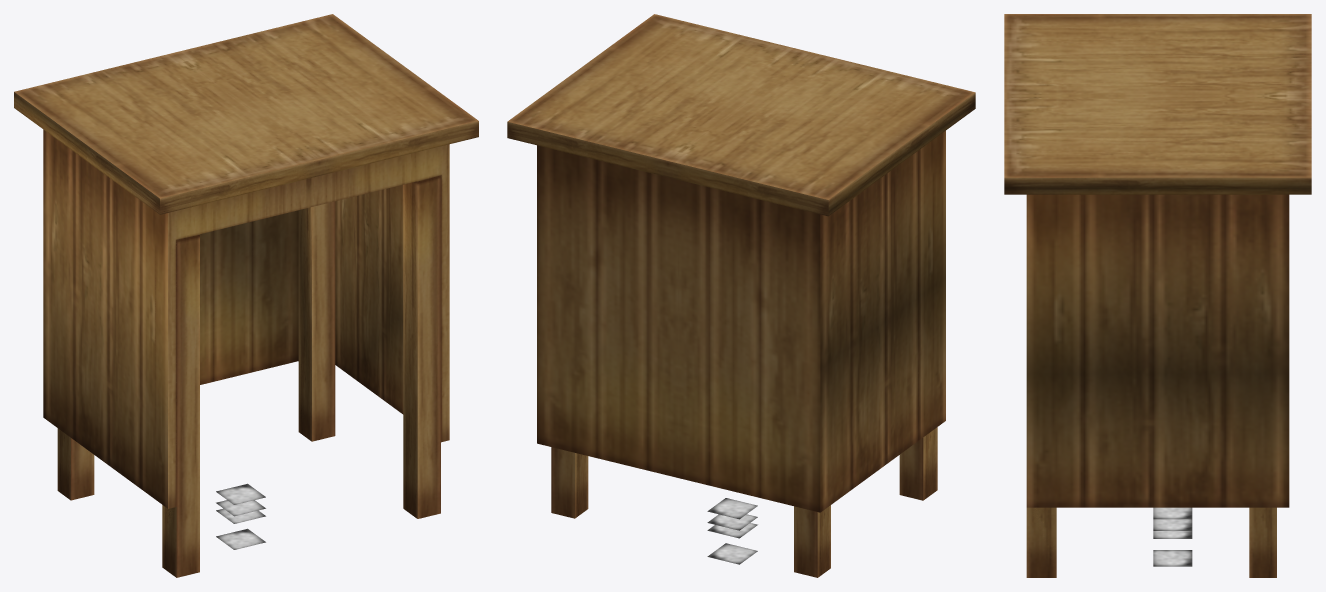
The model's file is a_SWGtdesk01b.glb.
3 views of the same model, side by side, from view 1: azimuth 30°, elevation 25°; view 2: azimuth 150°, elevation 25°; view 3: azimuth 270°, elevation 25° (orthographic). The views are drawn at different scales.
Visible parts, largest first — view 1: a_SWGtdesk01b; view 2: a_SWGtdesk01b; view 3: a_SWGtdesk01b.
Boxes of the visible parts, <box> form: a_SWGtdesk01b: <box>14,14,478,577</box>; a_SWGtdesk01b: <box>507,14,975,577</box>; a_SWGtdesk01b: <box>1004,14,1311,577</box>.
Size of the model in its own units: 0.9915 by 1.3 by 0.7869.
Materials: 2 (2 with a texture image).
